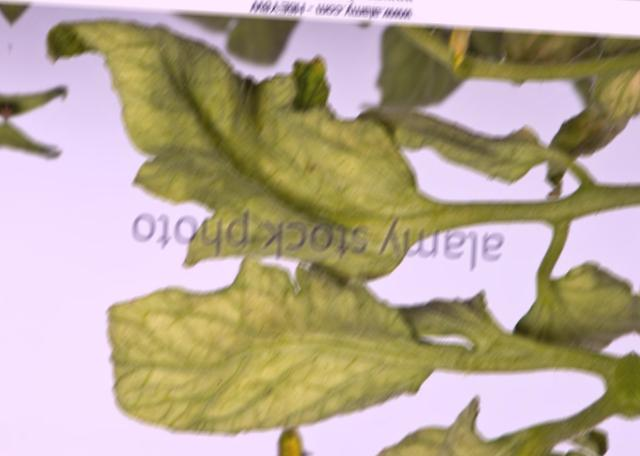Tomato leaf mosaic virus: (30, 16, 458, 302), (83, 246, 490, 443)
